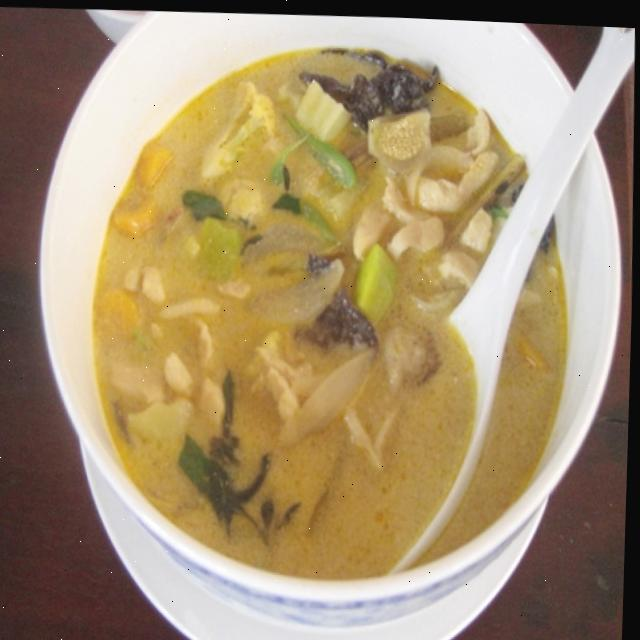汤锅炖物: (14, 1, 622, 628)
